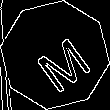M_NW: (22, 21, 88, 89)
